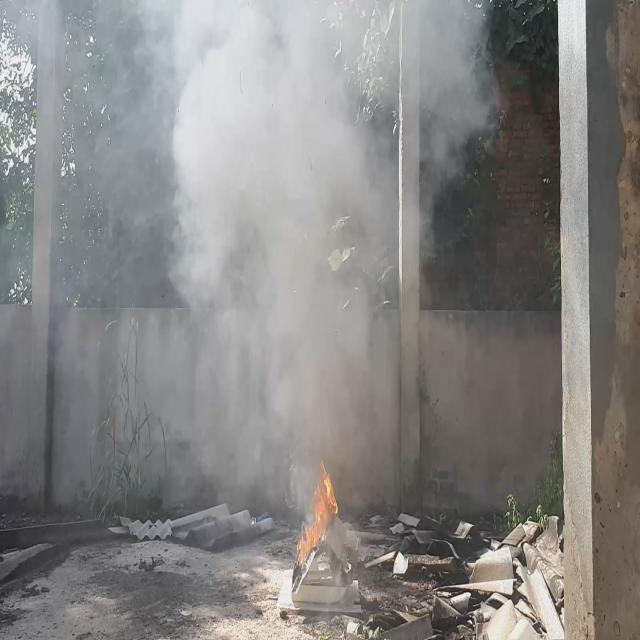Fire: (296, 466, 338, 570)
Smoke: (0, 0, 500, 522)
